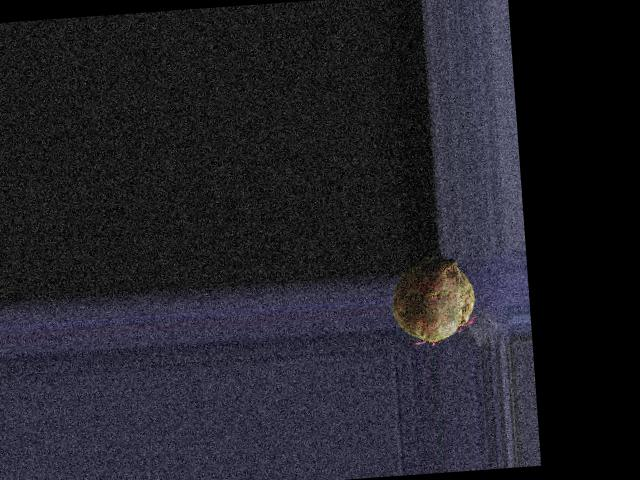beet: (389, 254, 478, 347)
